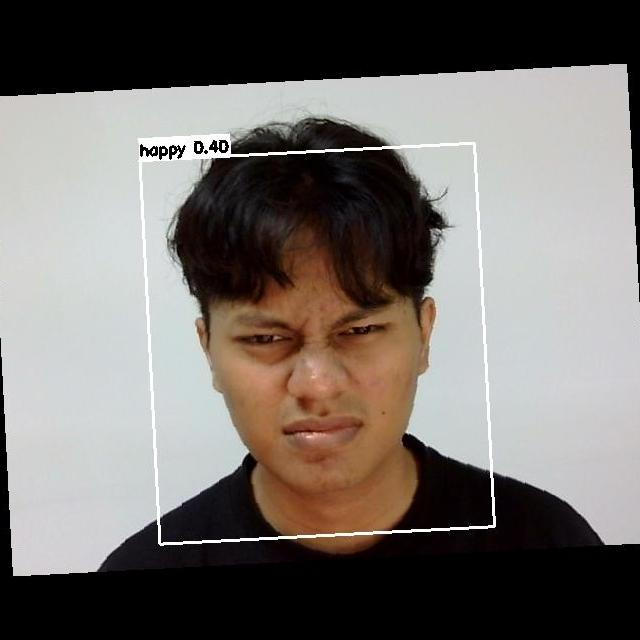Angry: (229, 291, 406, 473)
